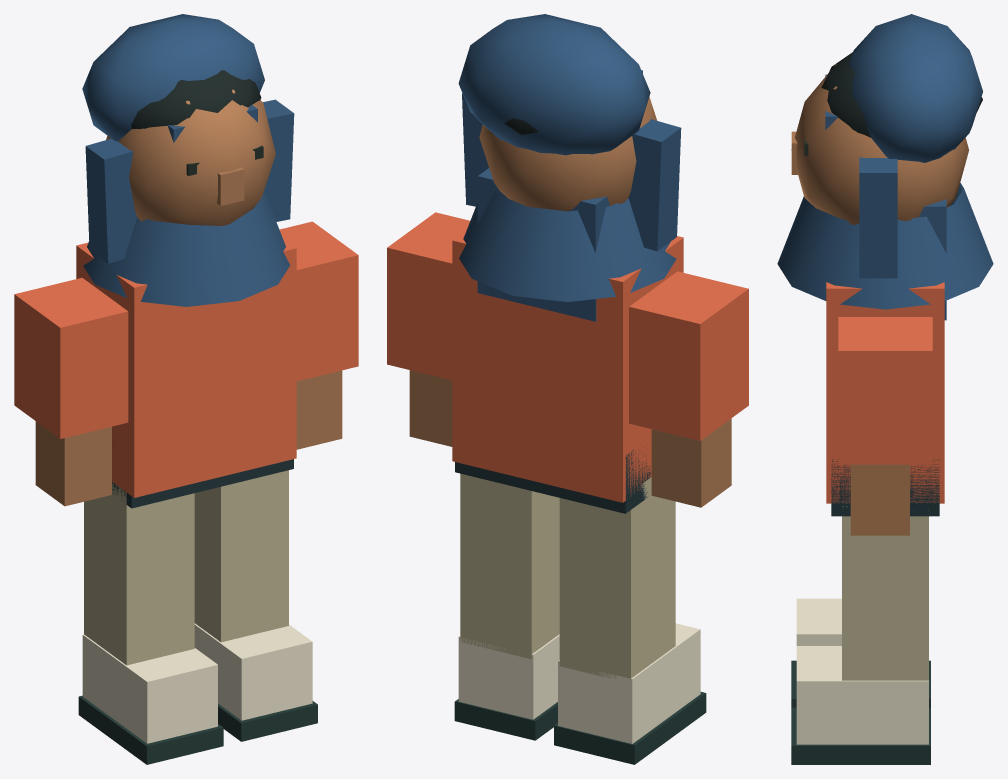
Rendered from female-tudung-bawal.glb.
3 views of the same model, side by side, from view 1: azimuth 30°, elevation 25°; view 2: azimuth 150°, elevation 25°; view 3: azimuth 270°, elevation 25° (orthographic). The views are drawn at different scales.
Parts seen in each view (by area): view 1: female-tudung-bawal, avatar-tudung, tudung-neck-wrap; view 2: female-tudung-bawal, avatar-tudung, tudung-neck-wrap; view 3: female-tudung-bawal, avatar-tudung, tudung-neck-wrap.
Boxes of the visible parts, left/top/right/bottom form: female-tudung-bawal: left=14, top=70, right=358, bottom=764; avatar-tudung: left=82, top=14, right=294, bottom=263; tudung-neck-wrap: left=83, top=191, right=290, bottom=306; female-tudung-bawal: left=387, top=97, right=748, bottom=764; avatar-tudung: left=458, top=14, right=681, bottom=321; tudung-neck-wrap: left=459, top=190, right=676, bottom=301; female-tudung-bawal: left=791, top=51, right=982, bottom=764; avatar-tudung: left=825, top=14, right=982, bottom=320; tudung-neck-wrap: left=777, top=183, right=993, bottom=309.
Size of the model in its own units: 1.01 by 2.2 by 0.62.
